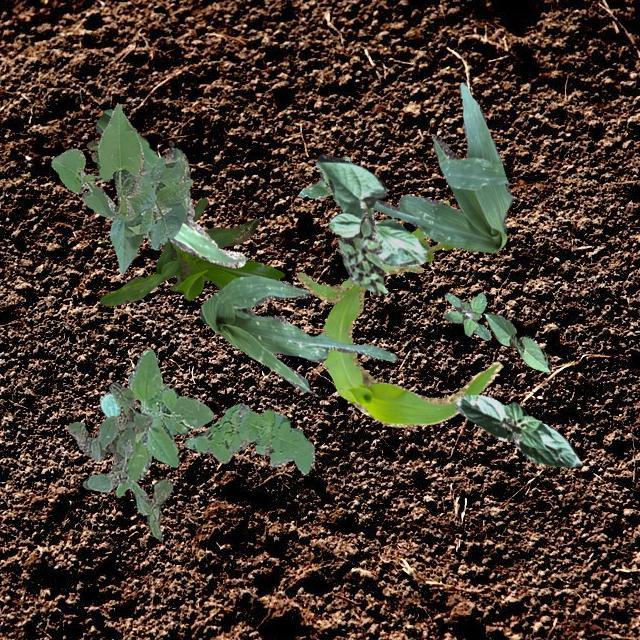crop: (296, 200, 502, 426), (50, 102, 192, 272), (94, 108, 246, 266), (372, 81, 512, 252), (198, 274, 396, 390), (100, 198, 284, 304), (99, 348, 212, 496), (316, 152, 426, 266), (454, 394, 580, 466), (484, 310, 550, 372), (420, 238, 452, 260)
weed: (66, 382, 172, 538), (184, 402, 314, 473), (336, 216, 386, 294), (442, 292, 490, 338), (298, 156, 350, 198), (85, 138, 98, 160)
